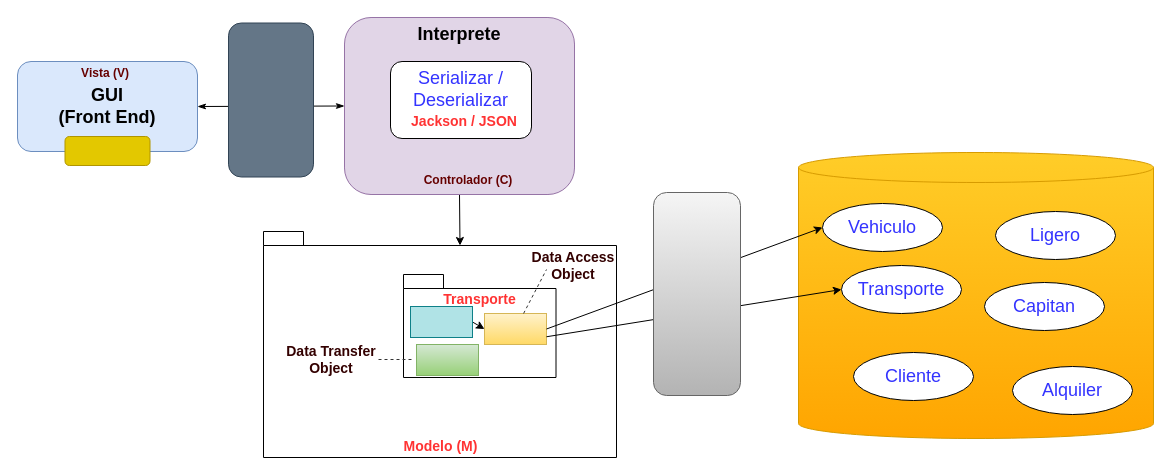
Some shapes in this 1171 by 475 pixel diagram are drawn without their labels. The centre of each missing label's shape, as x and y in pixels:
"DAO" goes at [515,328].
"DTO" goes at [447,360].
"JDBC" goes at [696,294].
"JSON" goes at [271,99].
"Mngr" goes at [441,322].
"Swing" goes at [107,151].
